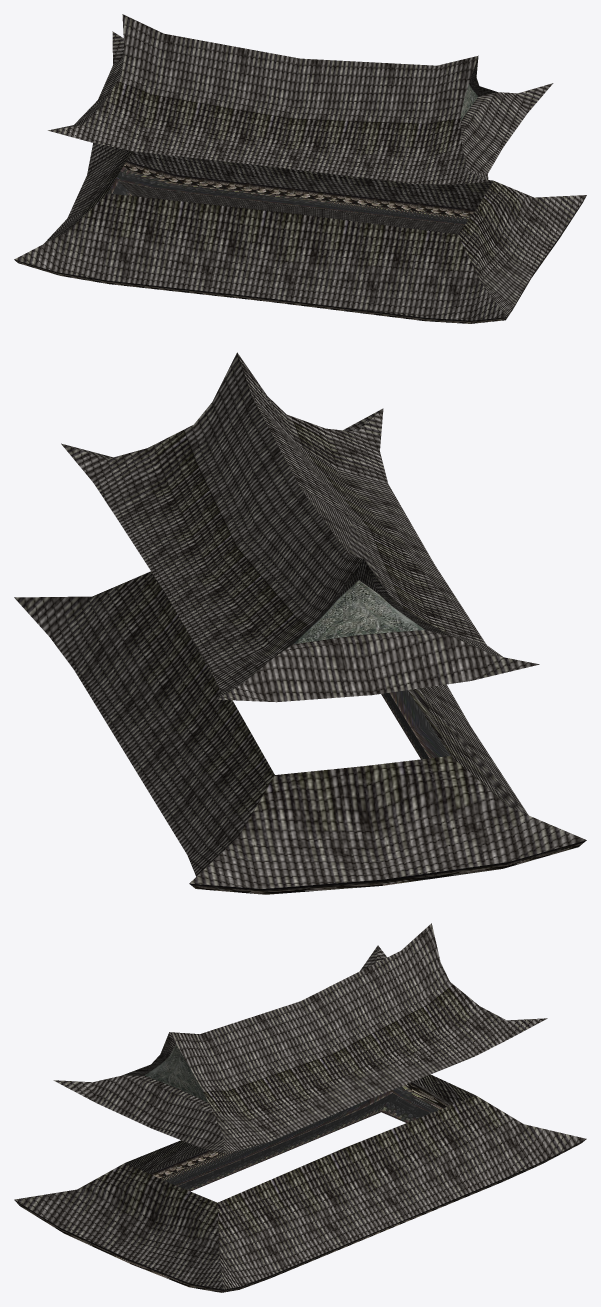
File: ian1082.obj
3 views of the same model, one above another, from view 1: azimuth 30°, elevation 25°; view 2: azimuth 150°, elevation 25°; view 3: azimuth 270°, elevation 25° (orthographic). The views are drawn at different scales.
Parts seen in each view (by area): view 1: ian1082; view 2: ian1082; view 3: ian1082.
Part boxes in pixels (left/top/right/bottom): ian1082: left=14, top=14, right=586, bottom=323; ian1082: left=14, top=352, right=586, bottom=894; ian1082: left=14, top=923, right=586, bottom=1292.
Size of the model in its own units: 328 by 138 by 329.
